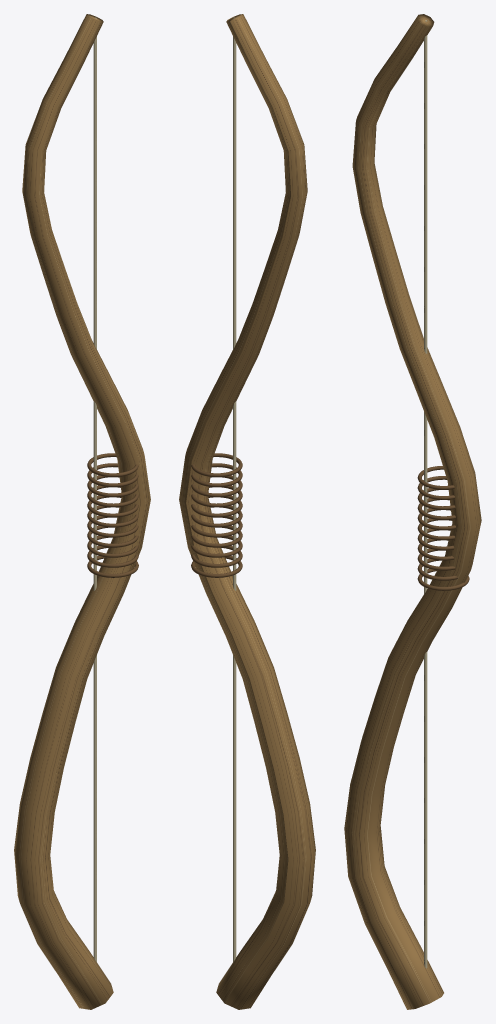
File: props_p10__p10_bow.glb
3 views of the same model, side by side, from view 1: azimuth 30°, elevation 25°; view 2: azimuth 150°, elevation 25°; view 3: azimuth 330°, elevation 25° (orthographic).
Visible parts, largest first — view 1: bow_limb, reference_static_surfaces, bow_string; view 2: bow_limb, reference_static_surfaces, bow_string; view 3: bow_limb, bow_string, reference_static_surfaces.
Boxes of the visible parts, x1,y1,x2,y2 form: bow_limb: (14,14,150,1009); reference_static_surfaces: (87,453,138,577); bow_string: (93,17,96,962); bow_limb: (179,14,315,1009); reference_static_surfaces: (191,453,242,577); bow_string: (233,17,236,962); bow_limb: (344,14,481,1009); bow_string: (424,20,427,968); reference_static_surfaces: (417,466,469,590).
Size of the model in its own units: 0.128 by 0.9068 by 0.0429.
3 materials, 1 textured.
